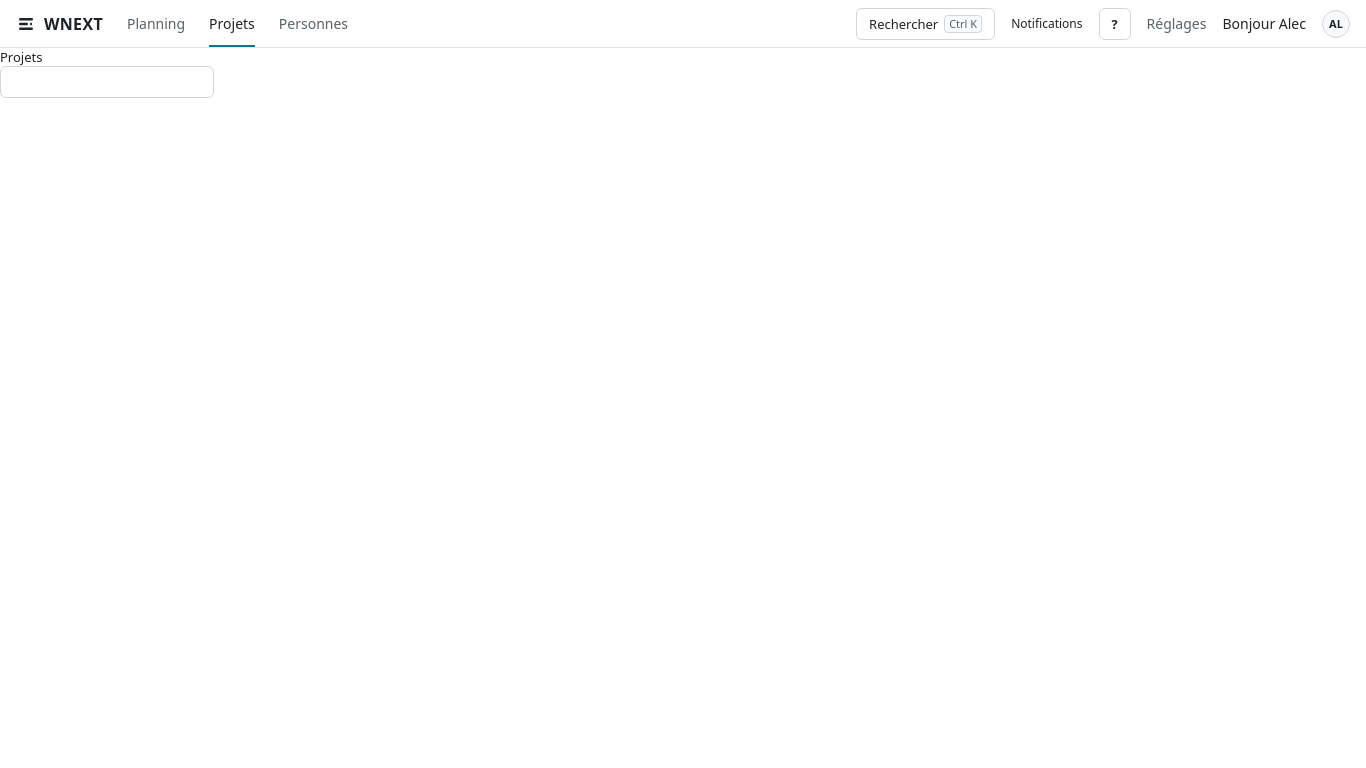
it: bouton et fenêtre d'aide (RT-064) › bouton dans l'en-tête commun, juste après la cloche, annonçant « ? » ; il ouvre la fenêtre et retrouve le focus à la fermeture
Click the button "?": (1114, 24) [1098,8,1130,40]
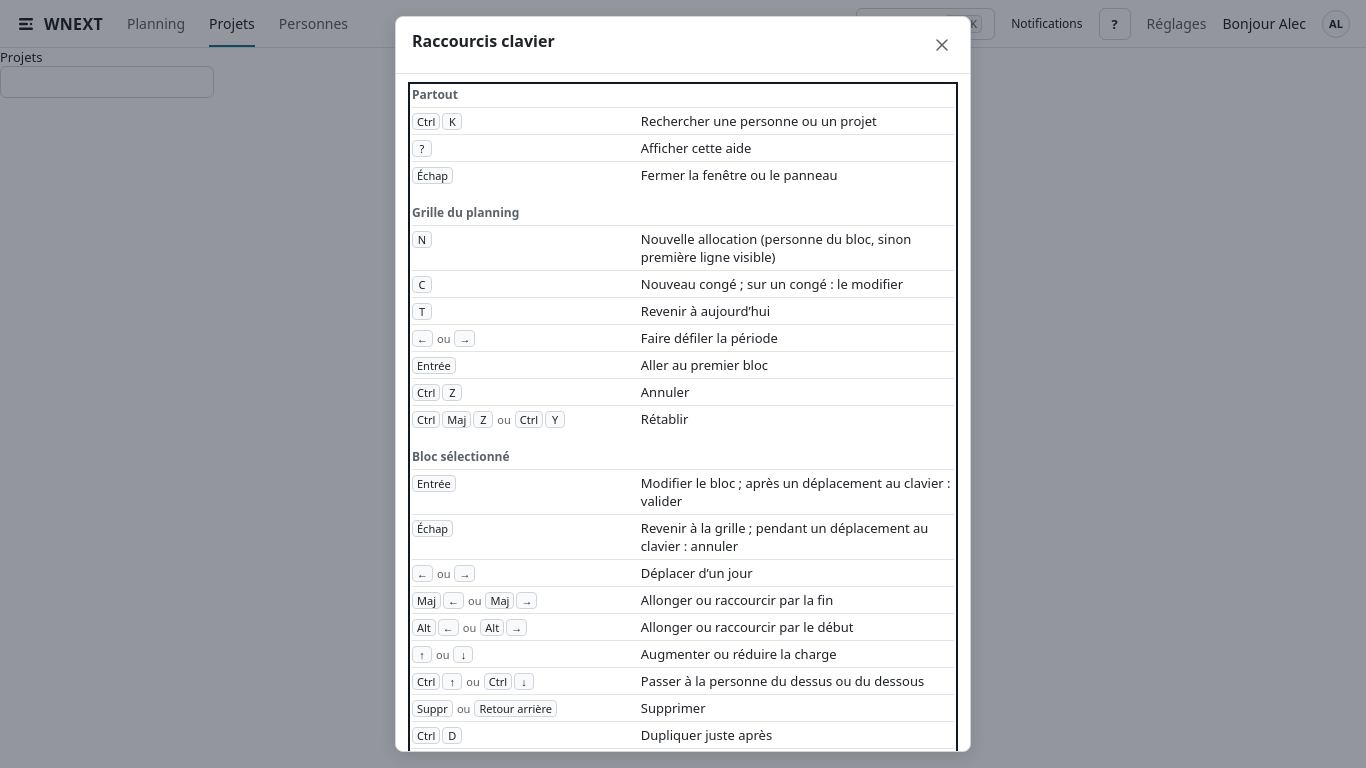
Check: the heading "Raccourcis clavier" is shown, box [412,29,555,53]
Press Escape in the dialog, box [395,16,971,752]
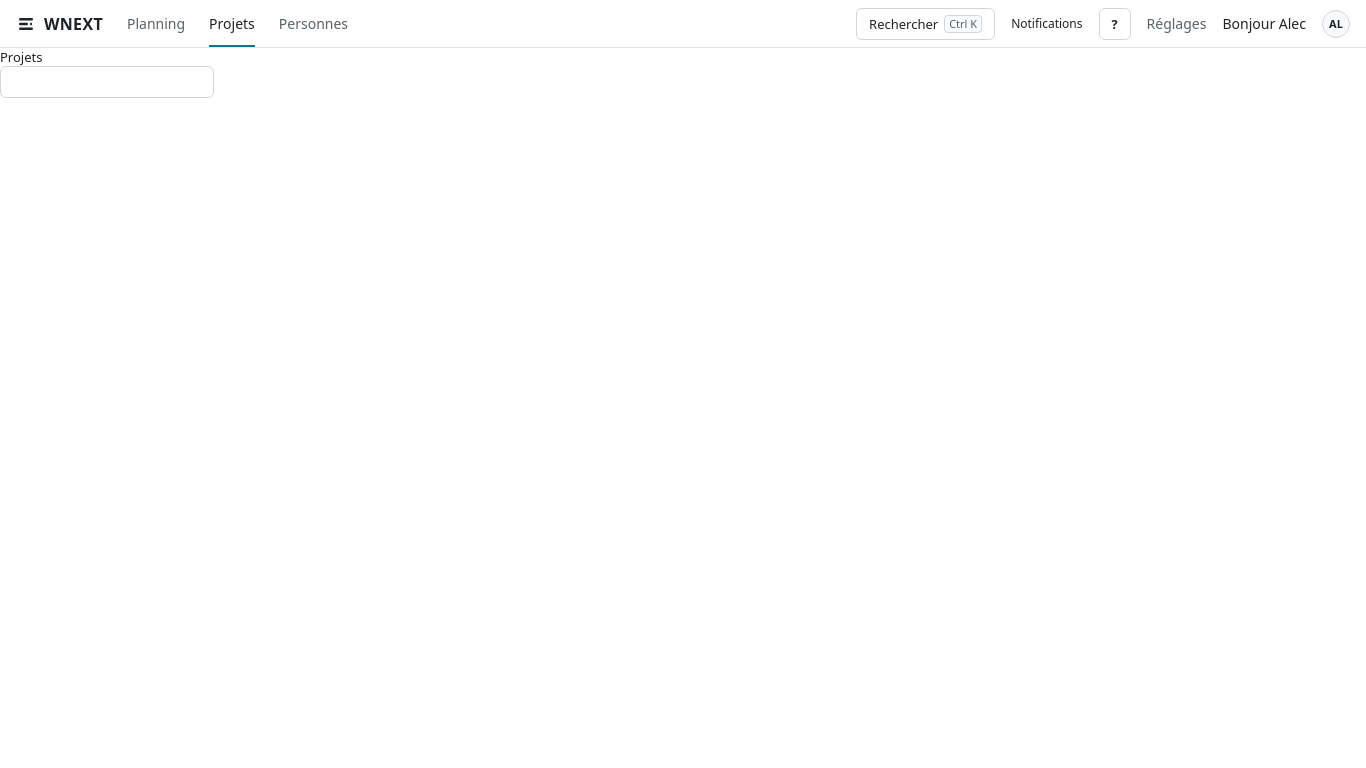
Check: the dialog is gone
